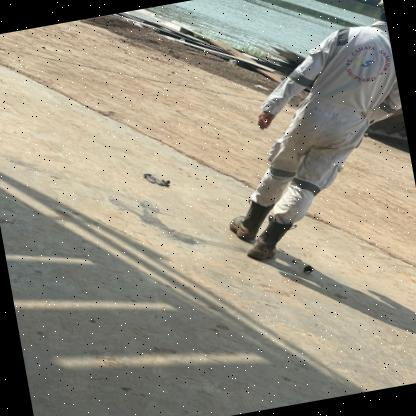bota: (243, 216, 301, 268), (223, 197, 272, 242)
